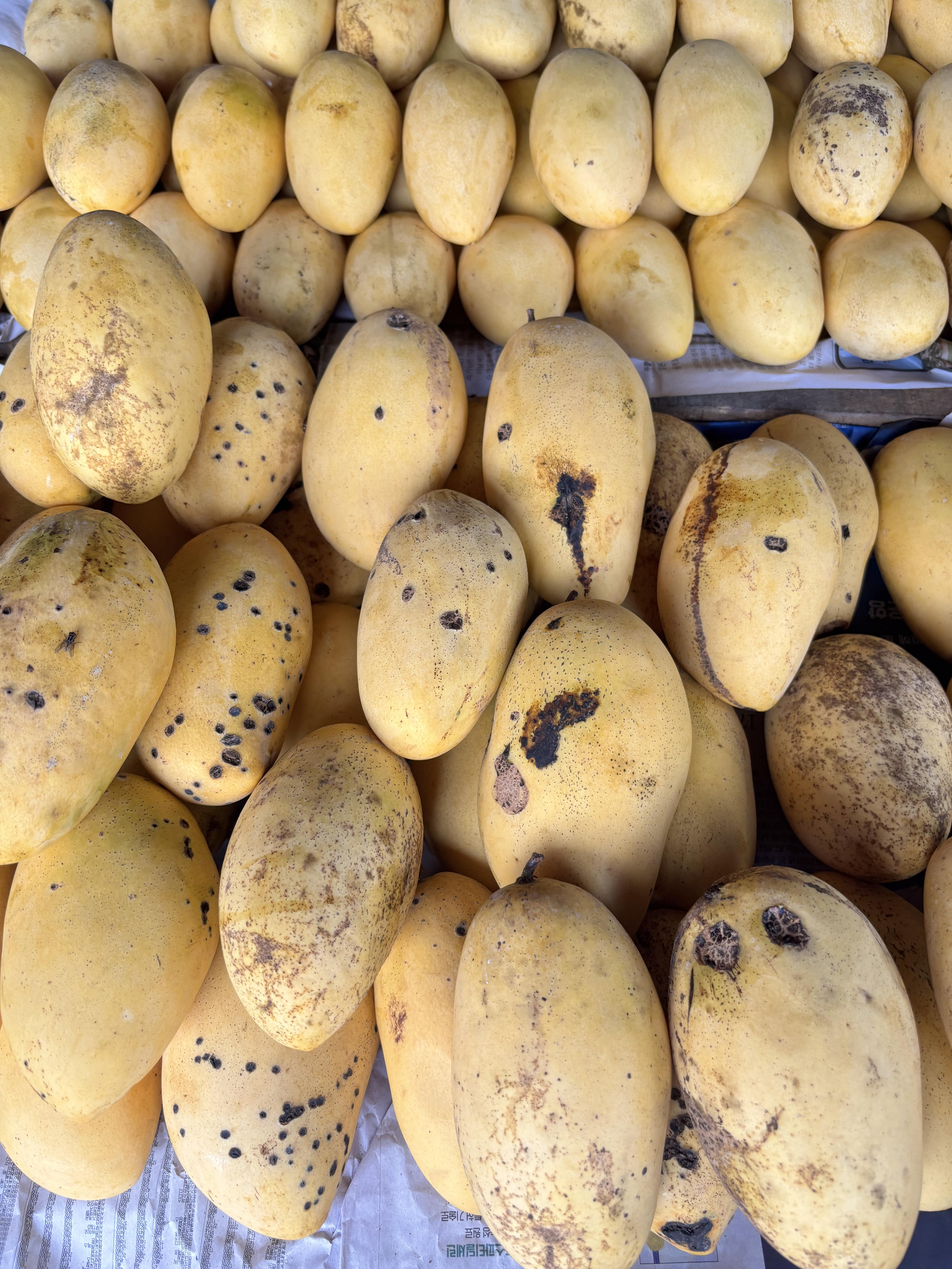mango: (219, 724, 423, 1050), (30, 210, 212, 503), (657, 437, 841, 711), (357, 490, 527, 760), (530, 48, 652, 229), (285, 50, 401, 235), (653, 40, 773, 216), (402, 60, 516, 245), (788, 62, 912, 230), (172, 66, 287, 232), (822, 221, 949, 361)
occluded: (668, 867, 923, 1269), (451, 855, 671, 1269), (0, 775, 218, 1120), (478, 600, 692, 936), (162, 942, 378, 1239), (0, 506, 175, 864), (137, 523, 312, 810), (482, 316, 654, 603), (764, 633, 952, 883), (816, 872, 952, 1211), (302, 308, 467, 570), (375, 872, 490, 1213), (163, 317, 315, 533), (0, 1025, 161, 1200), (753, 414, 878, 635), (651, 669, 756, 910), (688, 198, 823, 366), (625, 412, 712, 636), (44, 60, 170, 214), (872, 427, 952, 661), (575, 215, 694, 361), (0, 333, 98, 507), (411, 697, 497, 890), (232, 198, 345, 344), (457, 215, 574, 345), (651, 1087, 736, 1255), (263, 478, 368, 607), (279, 603, 367, 756), (132, 192, 235, 320), (343, 212, 455, 324), (0, 187, 78, 329), (498, 74, 564, 226), (336, 0, 444, 90), (112, 0, 212, 97), (558, 0, 676, 82), (0, 46, 54, 211), (678, 0, 793, 77), (449, 0, 556, 80), (232, 0, 334, 78), (24, 0, 115, 87), (792, 0, 892, 72), (746, 86, 800, 218), (924, 838, 952, 1044), (634, 908, 685, 1017), (914, 64, 952, 208), (210, 0, 272, 85), (443, 397, 487, 502), (892, 0, 952, 72), (880, 154, 940, 222), (636, 165, 685, 230), (879, 54, 930, 113), (766, 49, 815, 106), (427, 11, 469, 64), (907, 218, 952, 259), (385, 157, 416, 212), (245, 1061, 256, 1073)
